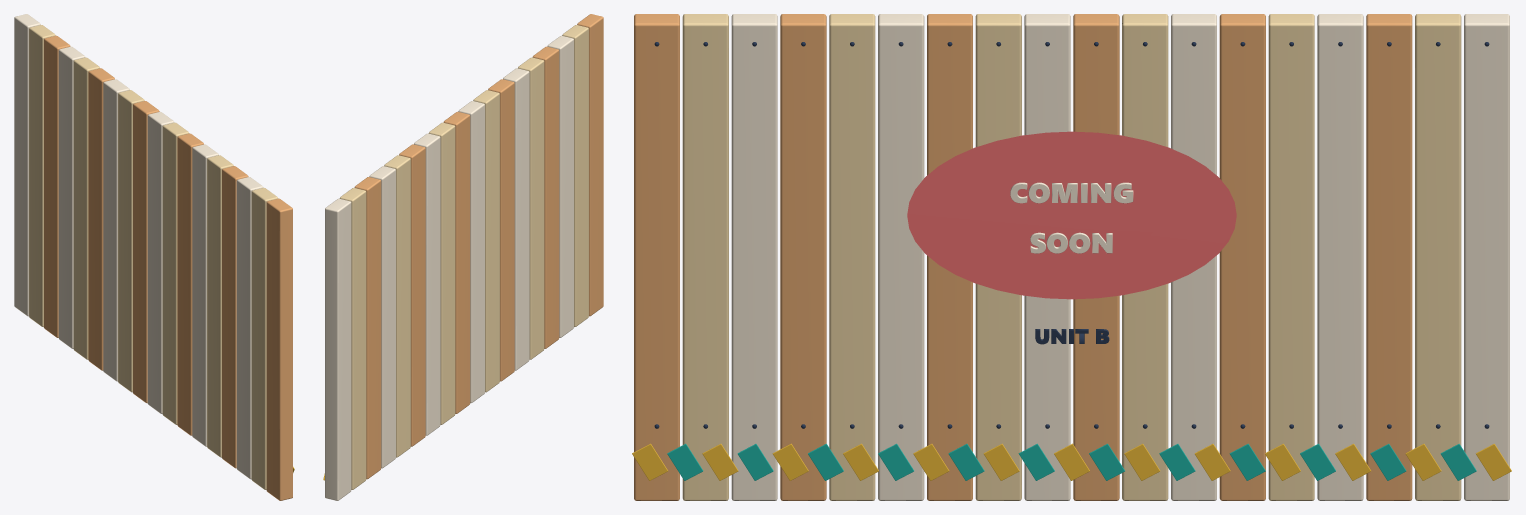
The model's file is PartitionB.fbx.
3 renders of one model, left to right at view 1: azimuth 30°, elevation 25°; view 2: azimuth 150°, elevation 25°; view 3: azimuth 270°, elevation 25°, orthographic. The views are drawn at different scales.
Visible parts, largest first — view 1: PartitionB mesh; view 2: PartitionB mesh; view 3: PartitionB mesh.
Part boxes in pixels (<box>): PartitionB mesh: <box>14,14,294,500</box>; PartitionB mesh: <box>323,14,603,500</box>; PartitionB mesh: <box>632,14,1511,500</box>.
Bounding box in the file's own units: 0.1395 × 2.4 × 4.
